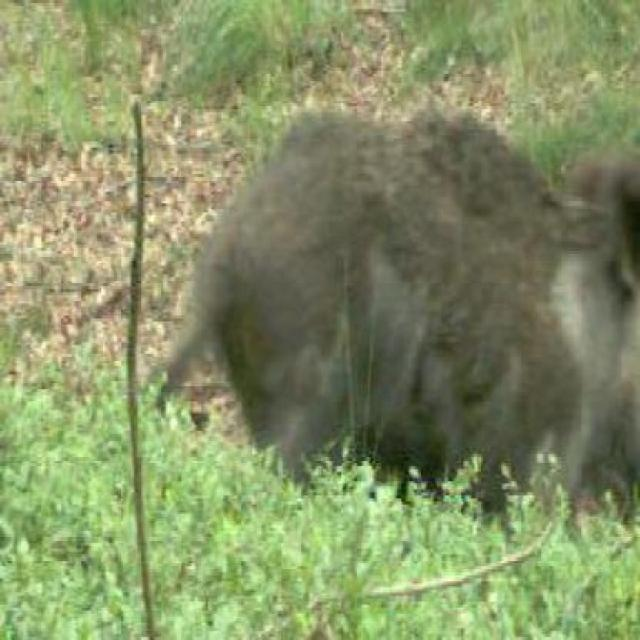WildBoar: (164, 59, 638, 566)
